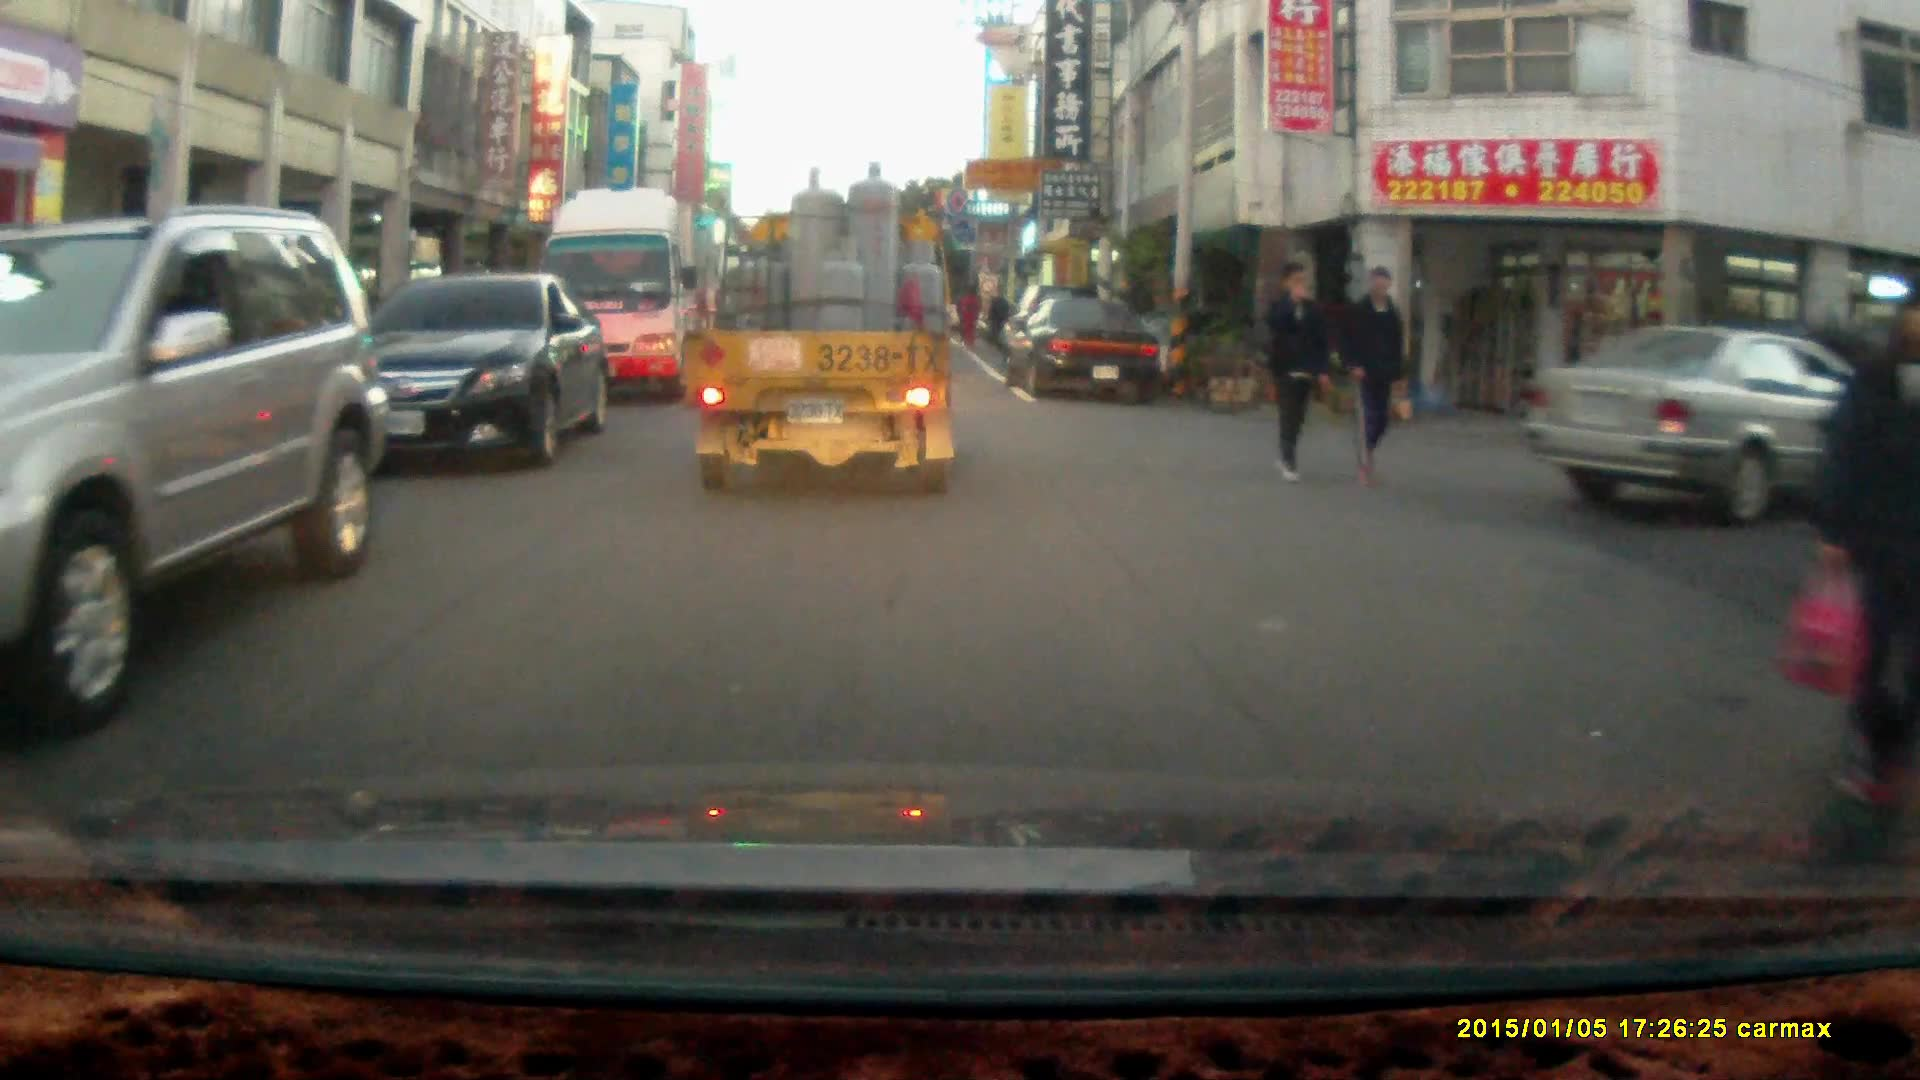pedestrian: (1811, 306, 1920, 813), (1338, 262, 1408, 492), (1265, 254, 1329, 481), (985, 280, 1013, 351), (955, 280, 980, 350)
vehicle: (1, 204, 399, 731), (685, 162, 962, 500), (1516, 324, 1920, 527), (301, 272, 615, 474), (534, 181, 722, 406), (997, 293, 1164, 403)
